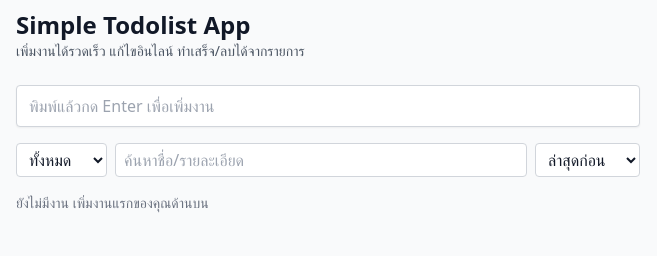
Add → Edit → Complete → Delete basic flow › toggles complete and deletes with confirm
Type "จะถูกลบ" into the field named "เพิ่มงานใหม่". click: x=328, y=106
box: [16,85,640,127]
Then press Enter
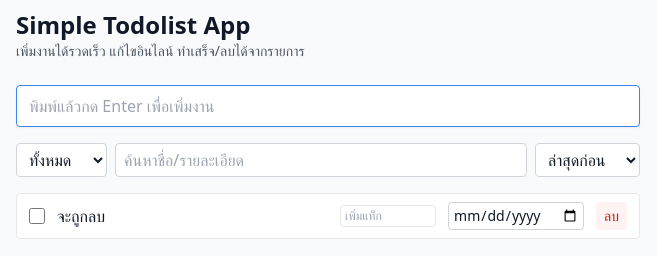
Click the checkbox. click: x=37, y=216
box: [29,208,45,224]
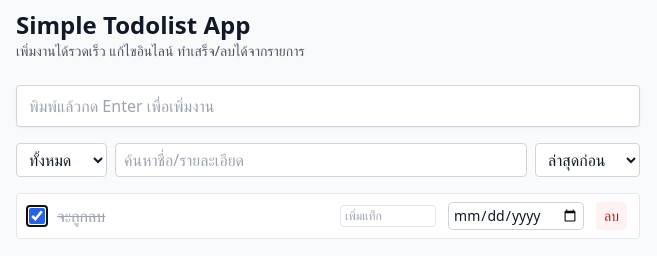
Check: the checkbox is checked, box [29,208,45,224]
Click the button "ลบ". click: x=612, y=216
box: [596,202,627,230]
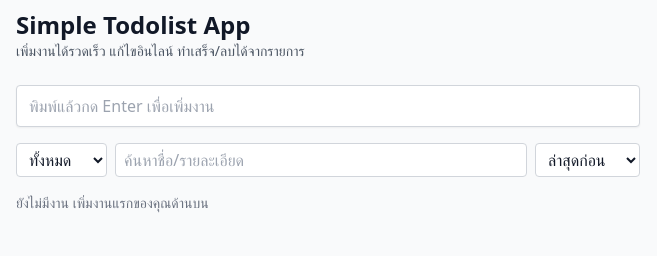
Check: the button "จะถูกลบ" is gone
